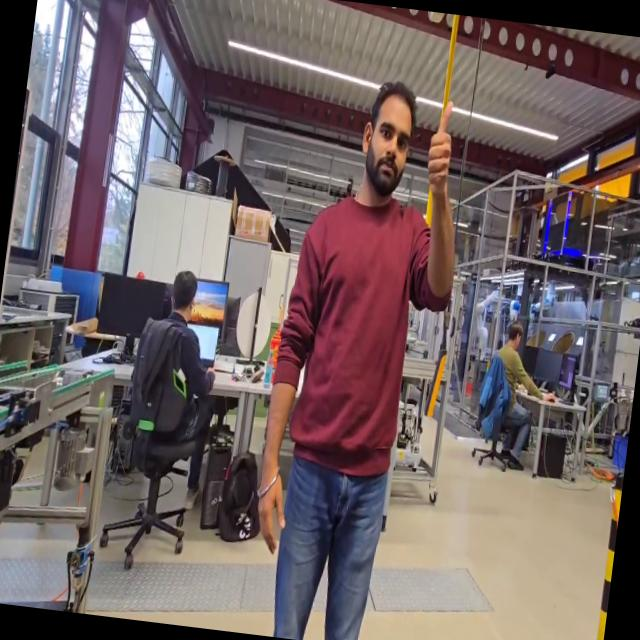thumbs_up: (419, 93, 462, 200)
